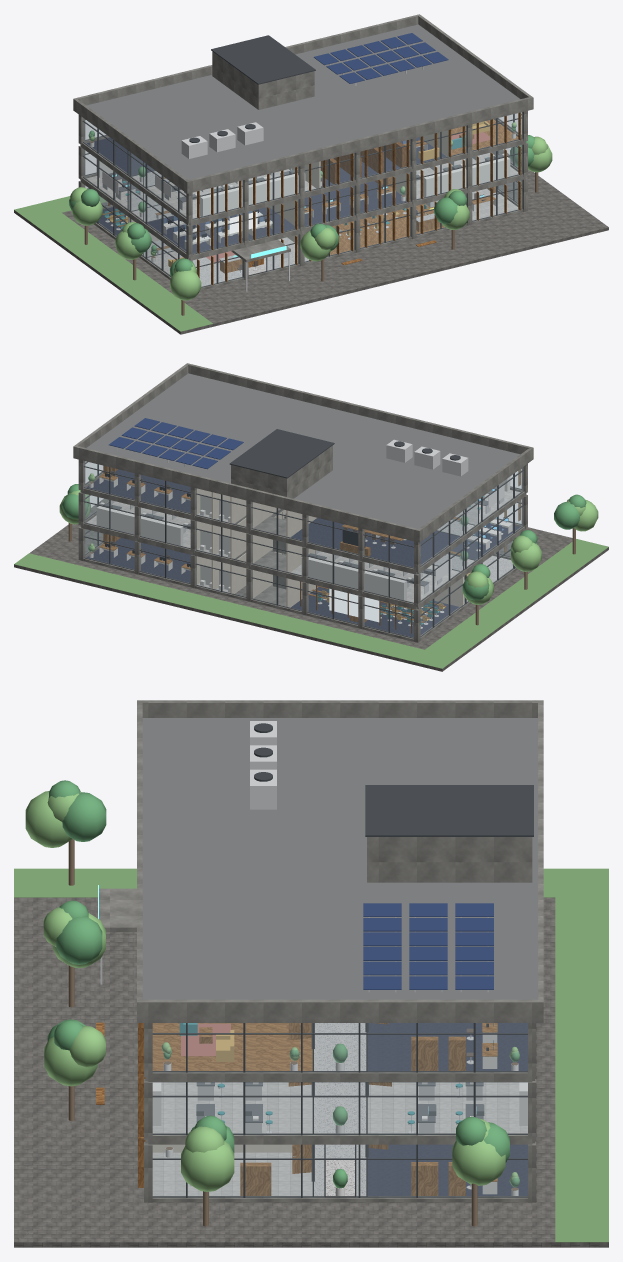
3 renders of one model, top to bottom at view 1: azimuth 30°, elevation 25°; view 2: azimuth 150°, elevation 25°; view 3: azimuth 270°, elevation 25°, orthographic. The views are drawn at different scales.
Parts seen in each view (by area): view 1: ROOF, SITE, WINDOWS_F1, WINDOWS_F2, WINDOWS_F0, STRUCTURE_F2, STRUCTURE_F1, STRUCTURE_F0, FACADE_FINS_F1, FURN_f2-iot-lab, FACADE_FINS_F2, FURN_f1-project-lab (+20 smaller); view 2: ROOF, SITE, WINDOWS_F1, WINDOWS_F0, WINDOWS_F2, STRUCTURE_F1, STRUCTURE_F2, STRUCTURE_F0, FURN_f1-electronics-lab, ROOM_f2-conference, FURN_f0-seminar-a, FURN_f1-telecom-lab (+22 smaller); view 3: ROOF, SITE, WINDOWS_F2, WINDOWS_F1, WINDOWS_F0, ROOM_f1-telecom-lab, ROOM_f1-project-lab, ROOM_f2-dept-office, ROOM_f2-lounge, STRUCTURE_F2, ROOM_f0-admin-office, STRUCTURE_F1 (+13 smaller).
Boxes of the visible parts, x1,y1,x2,y2 form: ROOF: (73,14,533,193); SITE: (14,135,608,334); WINDOWS_F1: (82,145,522,254); WINDOWS_F2: (82,112,522,219); WINDOWS_F0: (83,180,522,287); STRUCTURE_F2: (78,111,527,225); STRUCTURE_F1: (78,143,527,260); STRUCTURE_F0: (78,178,527,290); FACADE_FINS_F1: (197,145,520,253); FURN_f2-iot-lab: (155,168,305,216); FACADE_FINS_F2: (197,112,520,218); FURN_f1-project-lab: (416,151,510,197); ROOF: (73,363,533,542); SITE: (14,484,608,671); WINDOWS_F1: (84,494,523,603); WINDOWS_F0: (84,529,515,638); WINDOWS_F2: (83,461,523,568); STRUCTURE_F1: (78,491,527,609); STRUCTURE_F2: (78,459,527,574); STRUCTURE_F0: (78,526,517,642); FURN_f1-electronics-lab: (301,550,451,600); ROOM_f2-conference: (291,518,459,567); FURN_f0-seminar-a: (300,581,446,633); FURN_f1-telecom-lab: (96,500,190,545); ROOF: (137,700,543,1022); SITE: (14,780,608,1247); WINDOWS_F2: (152,1023,527,1072); WINDOWS_F1: (152,1082,527,1135); WINDOWS_F0: (152,1144,527,1197); ROOM_f1-telecom-lab: (367,1082,527,1133); ROOM_f1-project-lab: (152,1082,312,1133); ROOM_f2-dept-office: (367,1023,527,1070); ROOM_f2-lounge: (152,1023,312,1070); STRUCTURE_F2: (144,1023,536,1081); ROOM_f0-admin-office: (367,1144,527,1195); STRUCTURE_F1: (144,1077,536,1144).
Bounding box in the file's own units: 46 × 13.95 × 31.
Materials: 37 (8 with a texture image).
